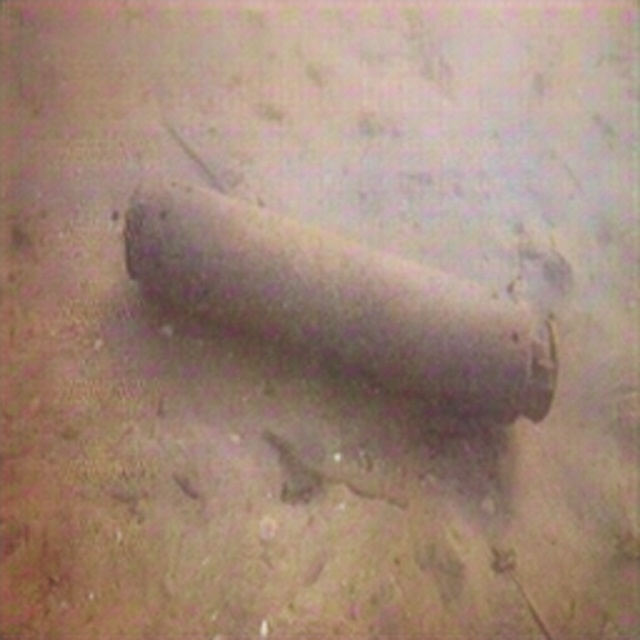mine: (123, 171, 557, 421)
